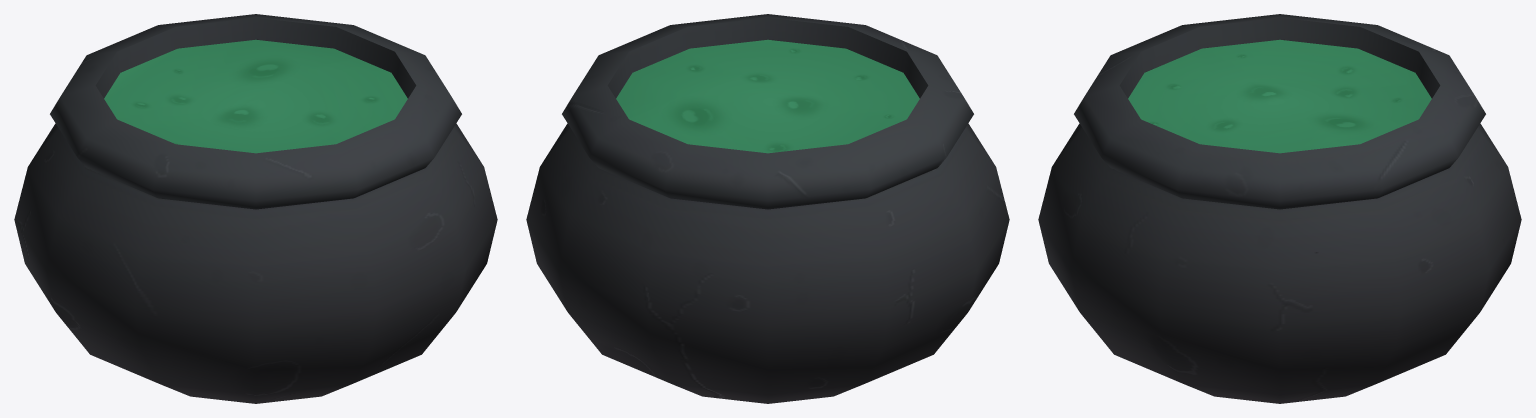
The model's file is Witch_Pot.fbx.
The picture shows the model from 3 angles, left to right: view 1: azimuth 30°, elevation 25°; view 2: azimuth 150°, elevation 25°; view 3: azimuth 270°, elevation 25°; orthographic projection.
Visible parts, largest first — view 1: flowerpot; view 2: flowerpot; view 3: flowerpot.
Part boxes in pixels (<box>): flowerpot: <box>14,14,497,403</box>; flowerpot: <box>526,14,1009,403</box>; flowerpot: <box>1038,14,1521,403</box>.
Size of the model in its own units: 18.07 by 10.85 by 18.07.
